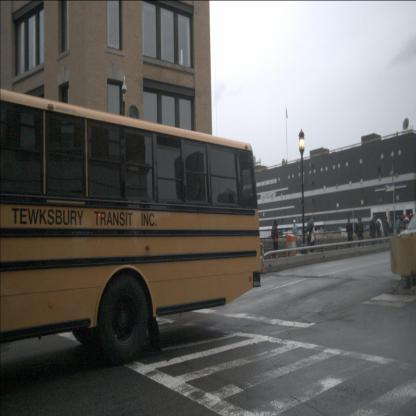human-pedestrian-adult: (306, 218, 316, 257), (270, 219, 279, 262), (291, 219, 299, 256), (376, 214, 384, 248), (402, 213, 410, 245), (346, 218, 353, 254), (354, 217, 361, 251), (358, 217, 364, 251), (370, 215, 376, 248), (395, 215, 401, 245), (388, 218, 394, 242), (384, 216, 388, 246)
movable_object-trafficcone: (260, 238, 268, 275)
vehicle-bus-rigid: (0, 87, 261, 365)
